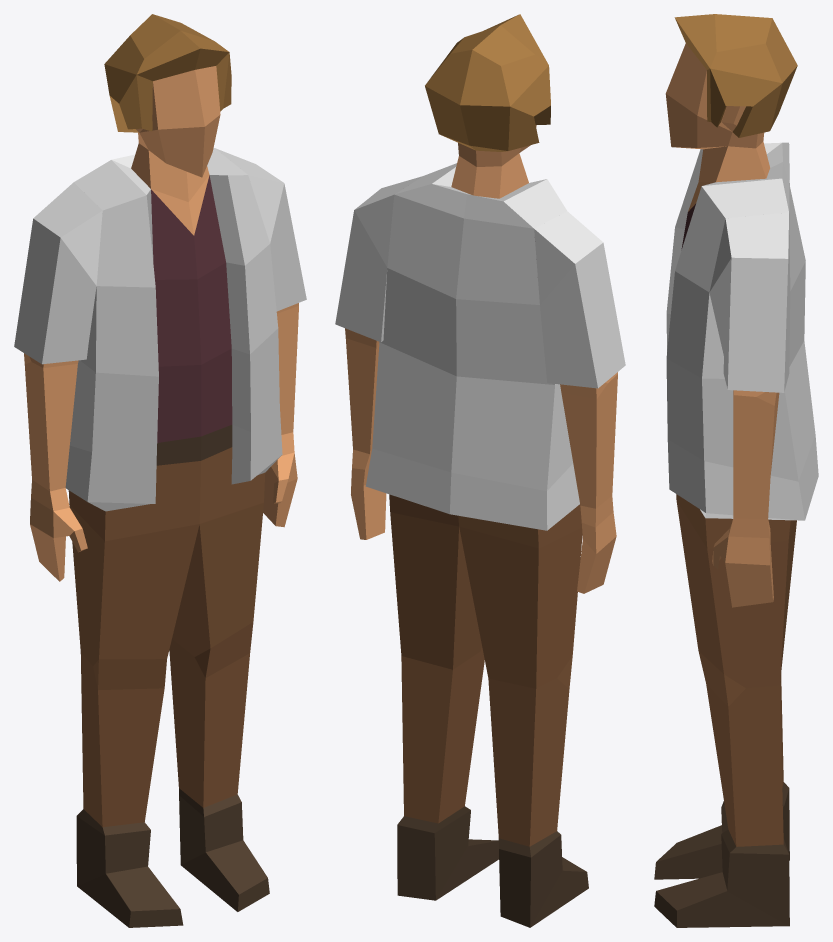
Rendered from man-pedestrian.fbx.
3 views of the same model, side by side, from view 1: azimuth 30°, elevation 25°; view 2: azimuth 150°, elevation 25°; view 3: azimuth 270°, elevation 25° (orthographic). The views are drawn at different scales.
Visible parts, largest first — view 1: man-pedestrian; view 2: man-pedestrian; view 3: man-pedestrian.
Boxes of the visible parts, x1,y1,x2,y2 form: man-pedestrian: [14, 14, 306, 927]; man-pedestrian: [335, 14, 625, 927]; man-pedestrian: [654, 14, 818, 927].
Size of the model in its own units: 0.5855 by 1.83 by 0.3102.
